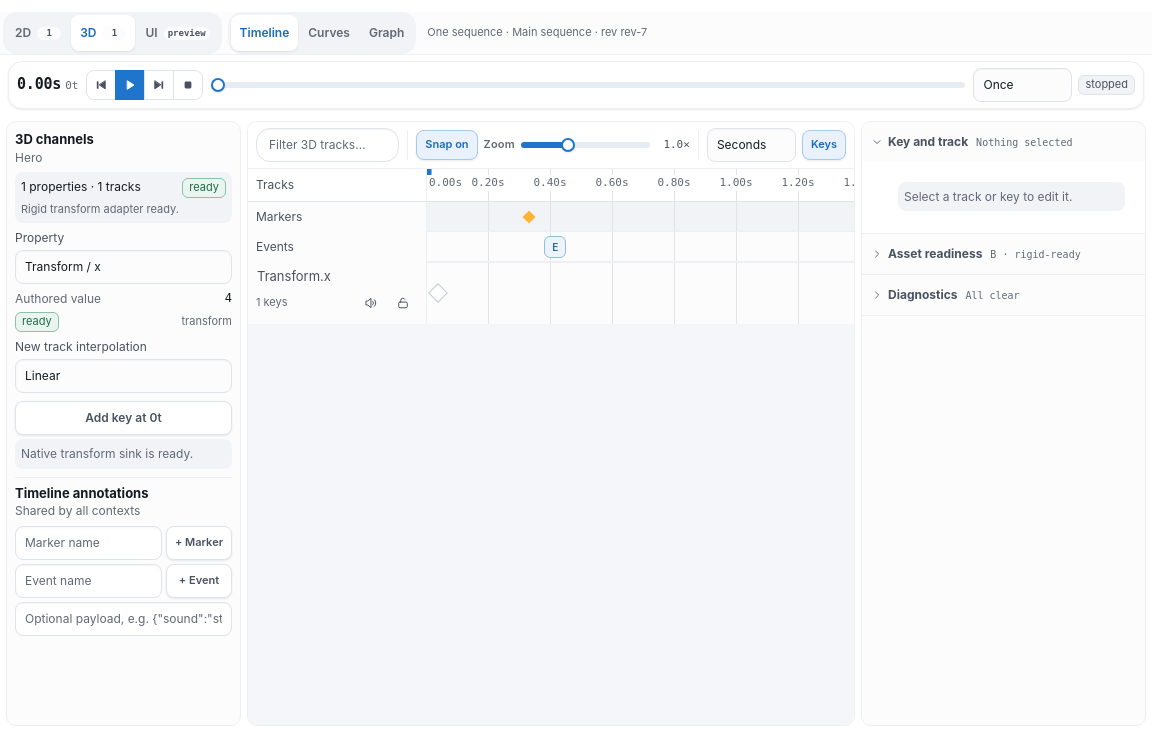
Scenario: filters only the active context and explains readiness without duplicating tracks
The image size is (1152, 732).
expect the element with test id "animation-context-readiness" is shown: met, box [15,172,232,223]
Click the tab "UI preview".
click(178, 33)  # box [136,15,219,51]
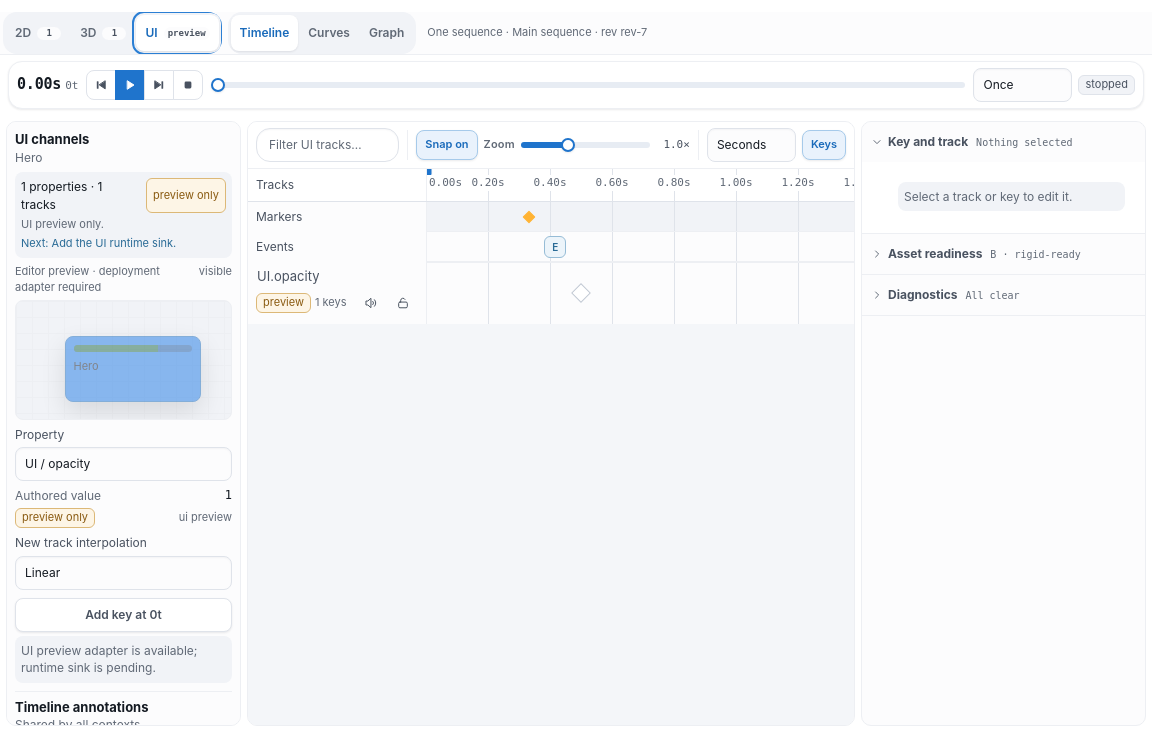
expect the number of elements with test id "animation-track" is 1: met, box [248,262,854,324]
expect the text "UI.opacity" is shown: met, box [257,269,320,285]
Type "not-present" into the search field with test id "animation-search".
click(328, 145); type("not-present")  # box [256,128,399,162]
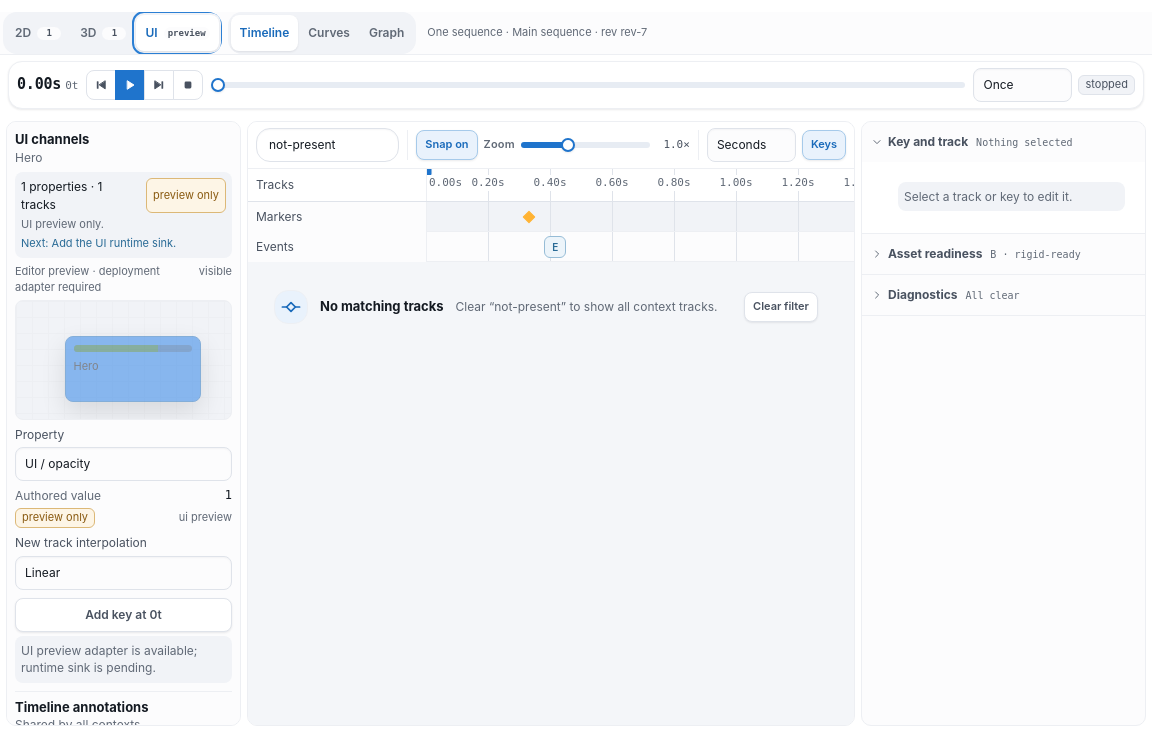
expect the button "UI.opacity" is gone: met
expect the text "No matching tracks" is shown: met, box [320,298,444,316]
